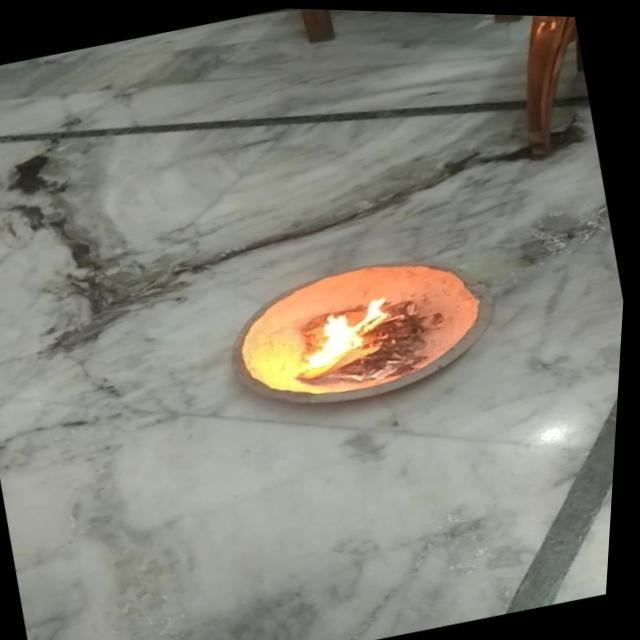fire: (292, 280, 422, 381)
